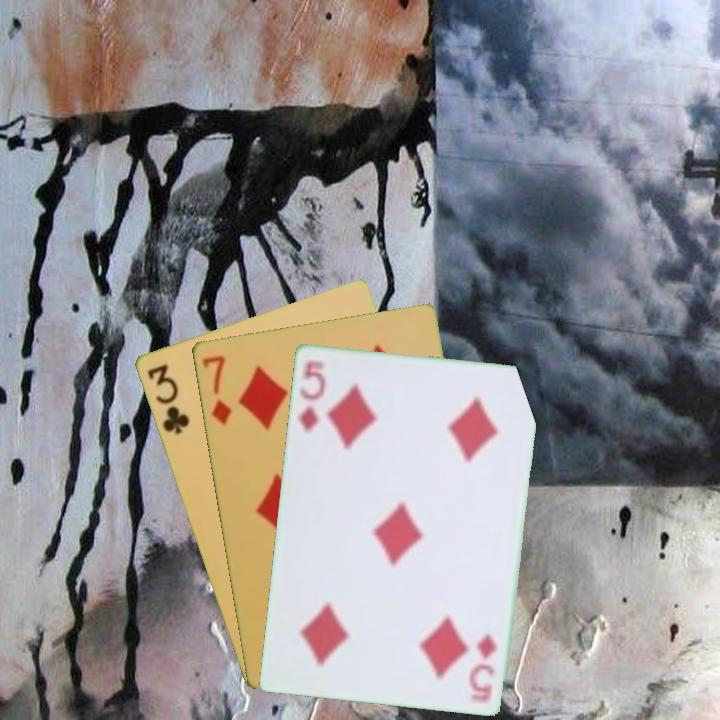3c: (143, 360, 193, 437)
5d: (294, 356, 328, 434), (467, 629, 499, 705)
7d: (198, 351, 234, 427)
